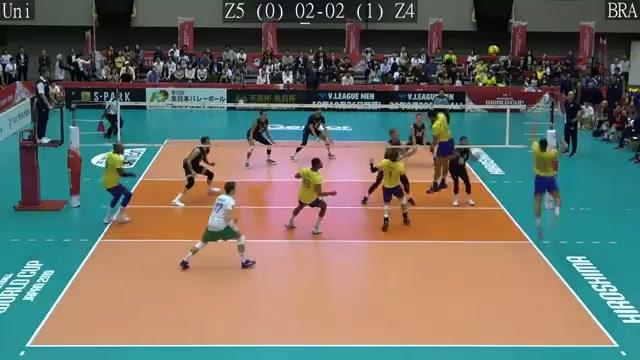ball: (486, 42, 499, 57)
